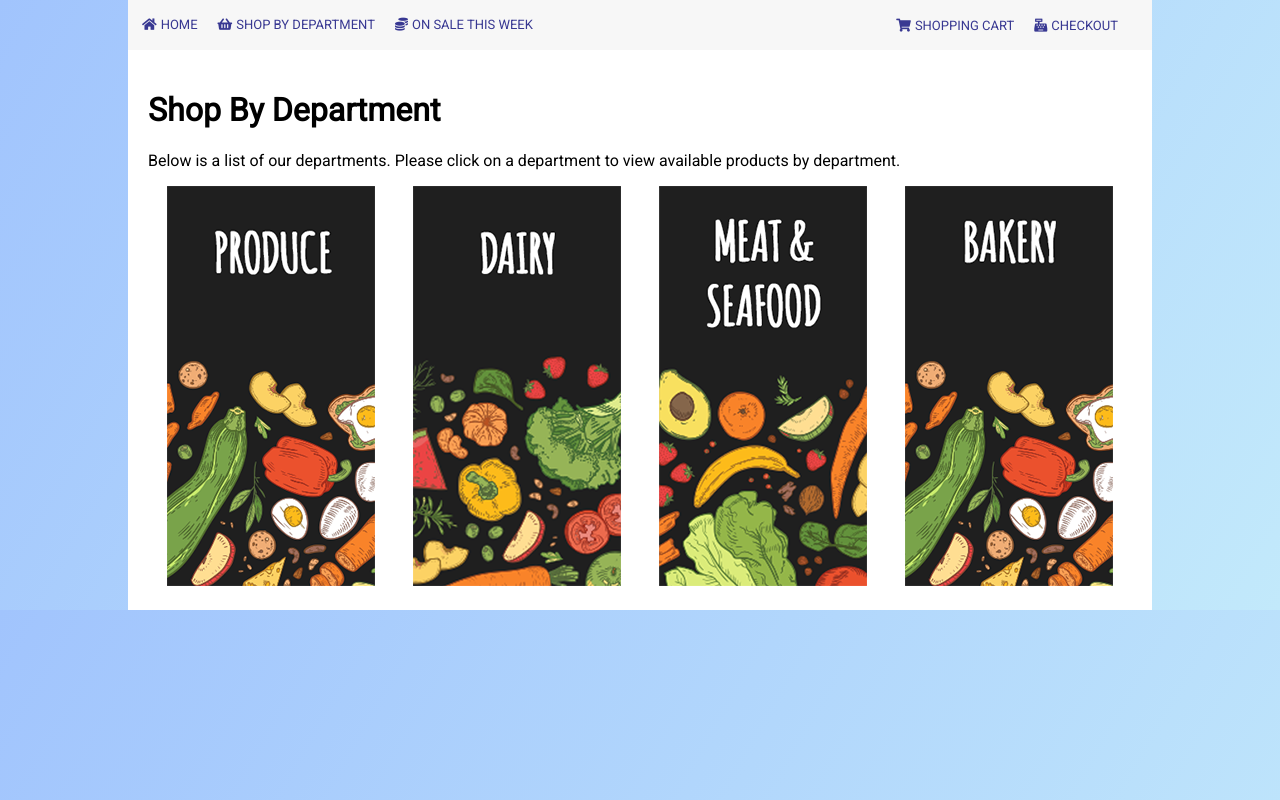
Test case: Products Tests › Visits the products path and clicks through to produce
The width and height of the screenshot is (1280, 800).
Click the 1st link with class "department" at (271, 388), box [167,186,375,590]
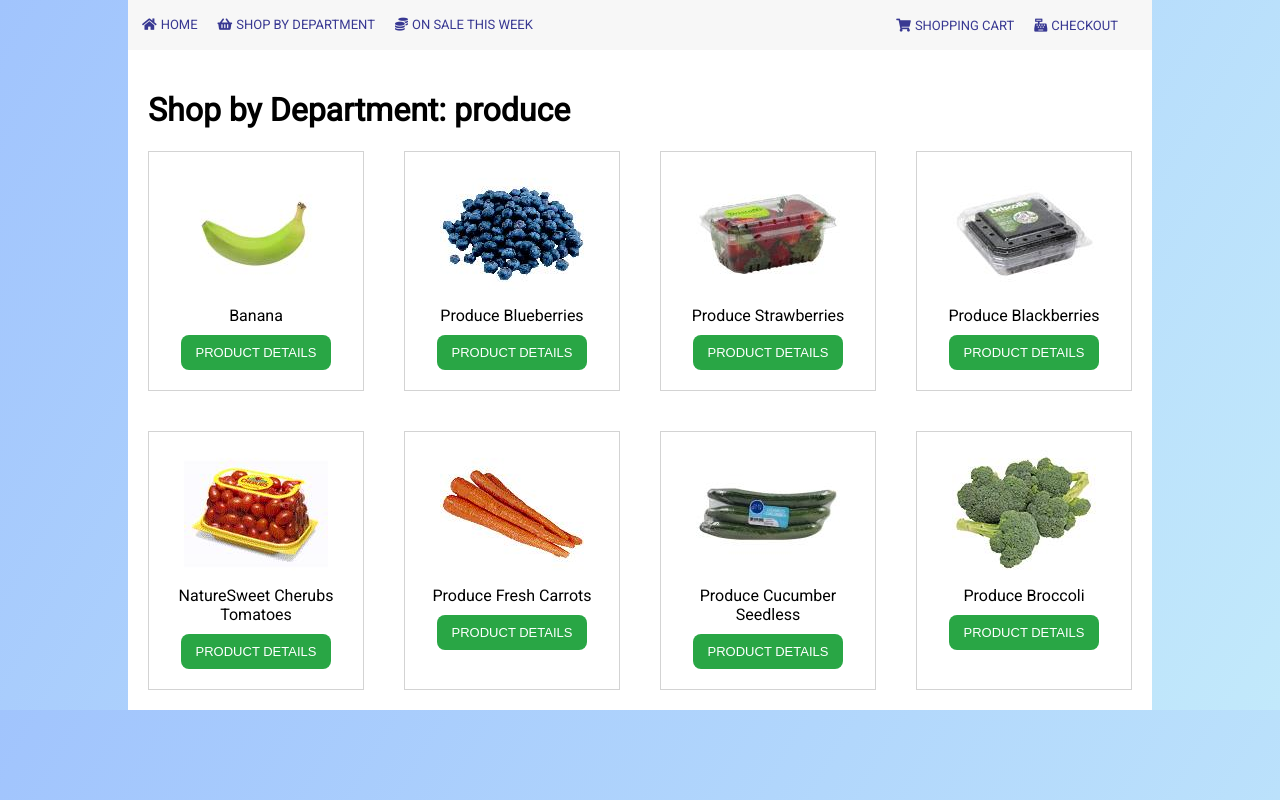
Expected: the heading "Shop by Department: produce" is shown, [148,91,570,129]
